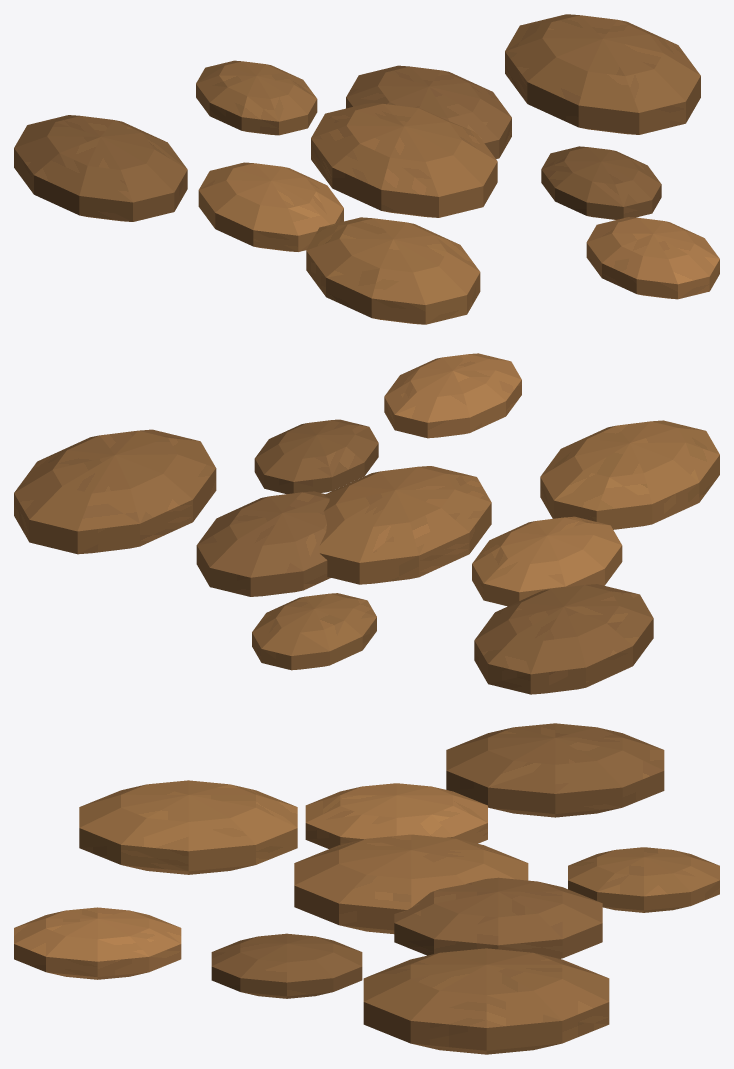
The model's file is seed_rose.glb.
The picture shows the model from 3 angles, top to bottom: view 1: azimuth 30°, elevation 25°; view 2: azimuth 150°, elevation 25°; view 3: azimuth 270°, elevation 25°; orthographic projection. The views are drawn at different scales.
Parts seen in each view (by area): view 1: block_grain 6, block_grain 0, block_grain 5, block_grain 7, block_grain 2, block_grain 8, block_grain 1, block_grain 4, block_grain 3; view 2: block_grain 6, block_grain 0, block_grain 7, block_grain 5, block_grain 1, block_grain 2, block_grain 8, block_grain 4, block_grain 3; view 3: block_grain 6, block_grain 5, block_grain 7, block_grain 0, block_grain 1, block_grain 8, block_grain 2, block_grain 3, block_grain 4.
Part boxes in pixels (x1,y1,x2,y2): block_grain 6: [505, 14, 700, 134]; block_grain 0: [311, 103, 497, 217]; block_grain 5: [306, 217, 480, 324]; block_grain 7: [14, 115, 187, 221]; block_grain 2: [198, 162, 343, 251]; block_grain 8: [586, 217, 719, 299]; block_grain 1: [346, 65, 511, 158]; block_grain 4: [196, 60, 317, 135]; block_grain 3: [541, 146, 661, 219]; block_grain 6: [14, 429, 216, 554]; block_grain 0: [319, 466, 491, 584]; block_grain 7: [474, 584, 653, 694]; block_grain 5: [540, 420, 719, 529]; block_grain 1: [196, 491, 330, 596]; block_grain 2: [472, 516, 622, 606]; block_grain 8: [384, 353, 521, 438]; block_grain 4: [252, 593, 376, 670]; block_grain 3: [254, 419, 378, 494]; block_grain 6: [363, 948, 609, 1054]; block_grain 5: [79, 780, 297, 874]; block_grain 7: [446, 723, 664, 817]; block_grain 0: [294, 834, 528, 933]; block_grain 1: [394, 877, 602, 958]; block_grain 8: [14, 907, 181, 979]; block_grain 2: [305, 783, 487, 848]; block_grain 3: [211, 933, 362, 998]; block_grain 4: [568, 847, 719, 912].
Size of the model in its own units: 0.022 by 0.00246 by 0.0214.
Materials: 1 (1 with a texture image).
